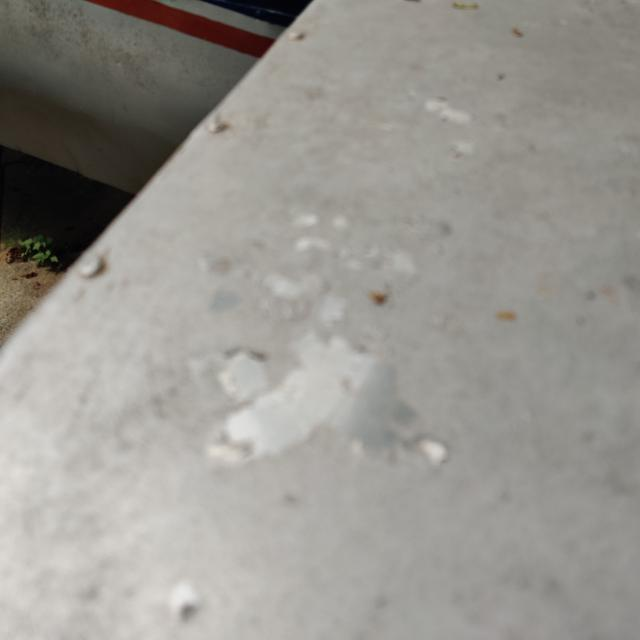paint-off: (171, 224, 463, 495)
